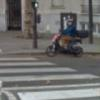motorcycles: (47, 31, 89, 57)
